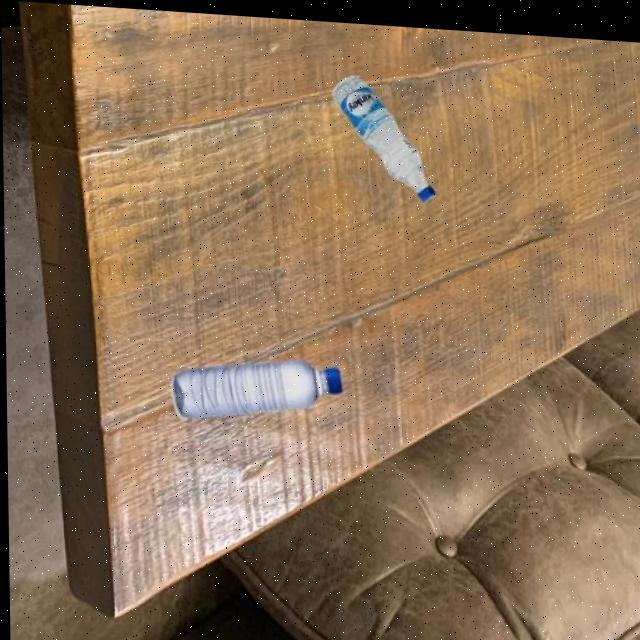bottle: (167, 346, 343, 426), (331, 67, 437, 197)
